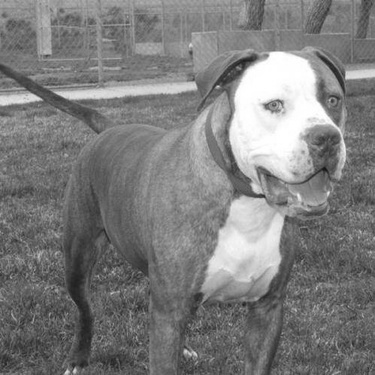dog: (1, 42, 350, 372)
